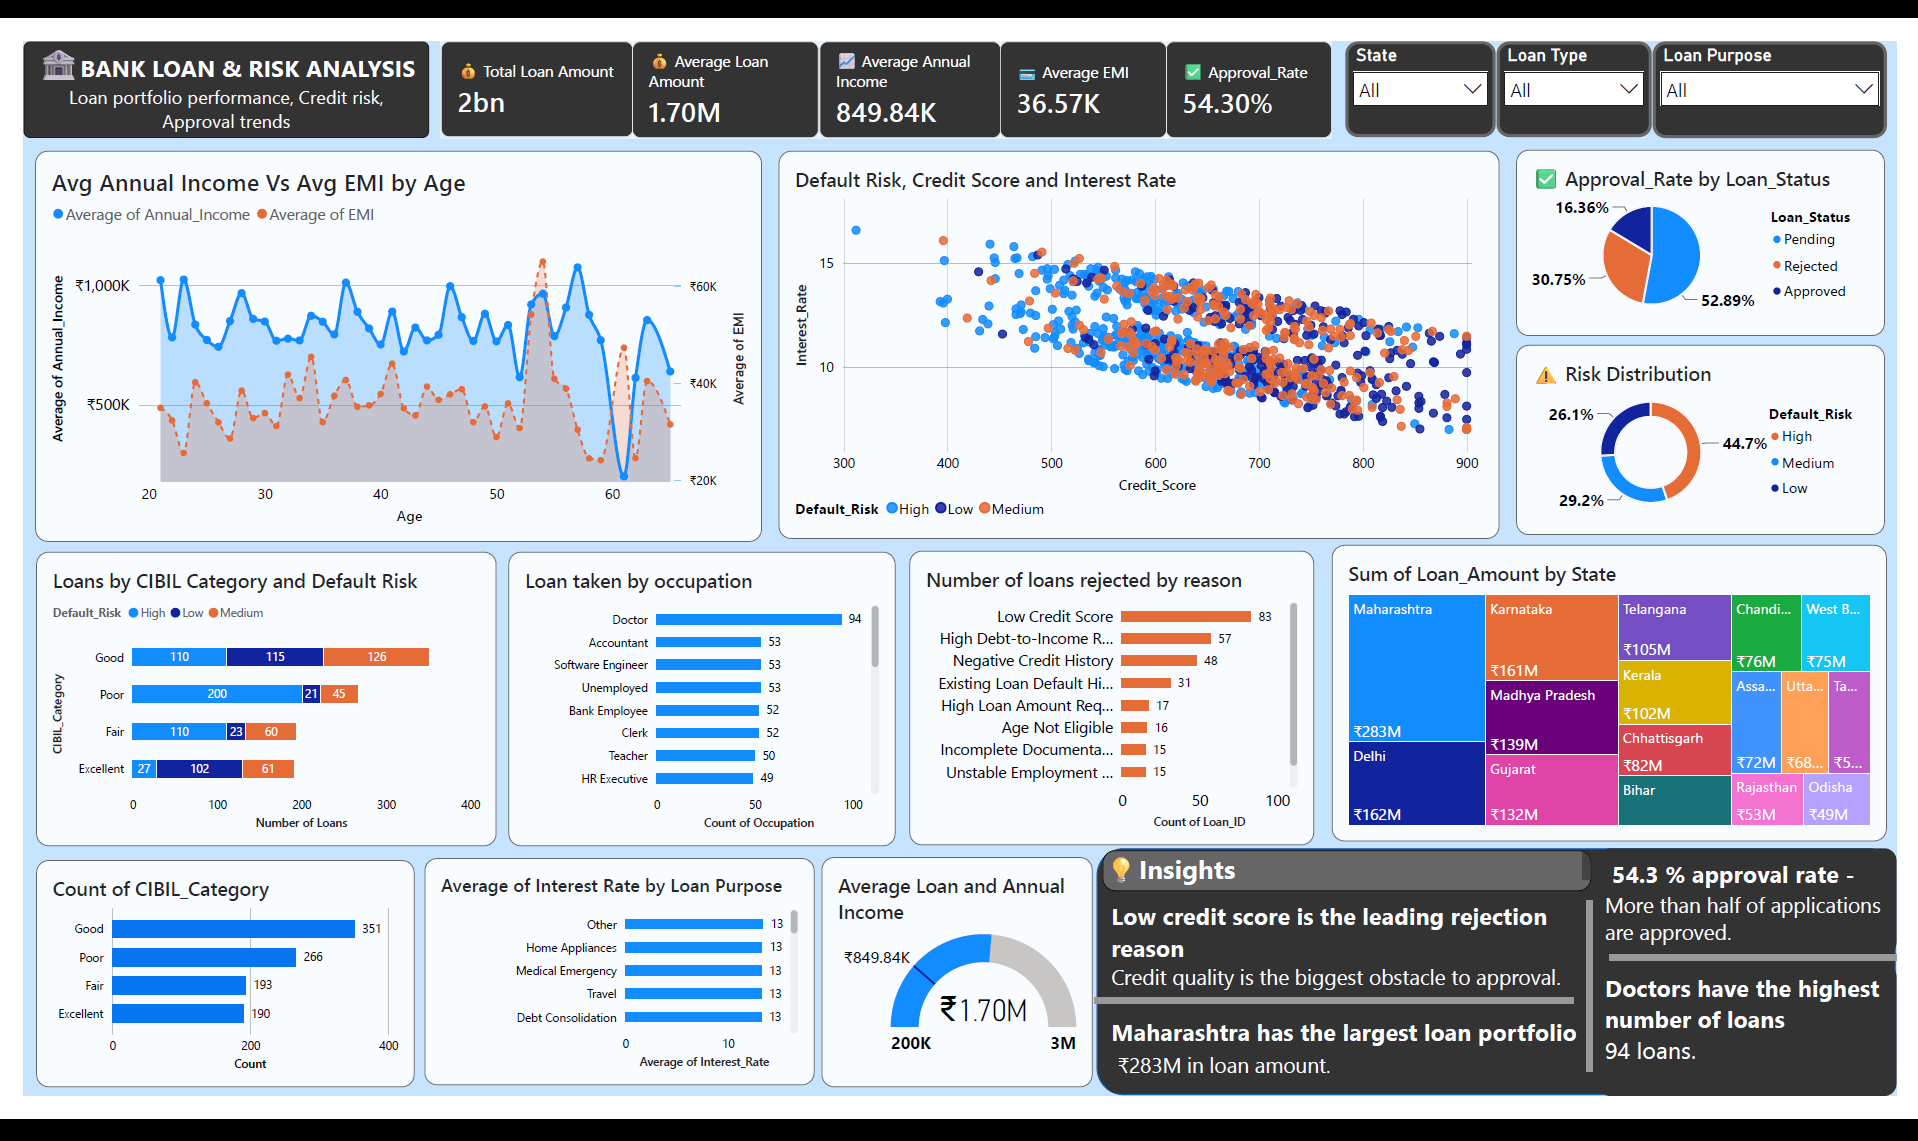

The dashboard page shown, as its layout file describes it:
{"tool":"powerbi","page":{"name":"Page 1","canvas":[1920,1080],"ordinal":0},"visuals":[{"type":"shape","box":[1099.8,827,819.5,253],"z":0},{"type":"treemap","fields":{"Group":["Bank_Loan_Dataset.State"],"Values":["Sum(Bank_Loan_Dataset.Loan_Amount)"]},"box":[1340.9,516,568.7,304.3],"z":1000},{"type":"barChart","title":"Average of Interest Rate by Loan Purpose","fields":{"Category":["Bank_Loan_Dataset.Loan_Purpose"],"Y":["Avg(Bank_Loan_Dataset.Interest_Rate)"]},"box":[411,837,400,233],"z":2000},{"type":"barChart","title":"Loan taken by occupation","fields":{"Category":["Bank_Loan_Dataset.Occupation"],"Y":["CountNonNull(Bank_Loan_Dataset.Occupation)"]},"box":[497.3,522.5,397,302.2],"z":3000},{"type":"gauge","title":"Average Loan and Annual Income","fields":{"MaxValue":["Bank_Loan_Dataset.Max_annual_income"],"MinValue":["Bank_Loan_Dataset.Min_annual_income"],"TargetValue":["Avg(Bank_Loan_Dataset.Annual_Income)"],"Y":["Avg(Bank_Loan_Dataset.Loan_Amount)"]},"box":[818,836,278.3,236],"z":4000},{"type":"barChart","title":"Number of loans rejected by reason","fields":{"Category":["Bank_Loan_Dataset.Rejection_Reason"],"Y":["CountNonNull(Bank_Loan_Dataset.Loan_ID)"]},"box":[908.5,521.9,415,302],"z":5000},{"type":"barChart","title":"Loans by CIBIL Category and Default Risk","fields":{"Category":["Bank_Loan_Dataset.CIBIL_Category"],"Series":["Bank_Loan_Dataset.Default_Risk"],"Y":["CountNonNull(Bank_Loan_Dataset.Loan_ID)"]},"box":[12.6,522.5,472,302.2],"z":6000},{"type":"slicer","fields":{"Values":["Bank_Loan_Dataset.State"]},"box":[1355,0,154,98],"z":7000},{"type":"slicer","fields":{"Values":["Bank_Loan_Dataset.Loan_Type"]},"box":[1509.6,0,159.7,97.7],"z":8000},{"type":"cardVisual","title":"Loan Approval Rate","fields":{"Data":["Bank_Loan_Dataset.Approval_Rate"]},"box":[1171.3,0,170.1,99.2],"z":9000},{"type":"scatterChart","title":"Default Risk, Credit Score and Interest Rate","fields":{"Series":["Bank_Loan_Dataset.Default_Risk"],"X":["Bank_Loan_Dataset.Credit_Score"],"Y":["Bank_Loan_Dataset.Interest_Rate"]},"box":[774,112.1,739,398.2],"z":10000},{"type":"textbox","box":[0,0,415.5,98.6],"z":11000},{"type":"cardVisual","title":"Loan Approval Rate","fields":{"Data":["Measures11.💰 Total Loan Amount"]},"box":[428.1,0,197.3,98.6],"z":12000},{"type":"cardVisual","title":"Loan Approval Rate","fields":{"Data":["Measures11.💰 Average Loan Amount"]},"box":[624.3,0,191.7,99.6],"z":13000},{"type":"cardVisual","fields":{"Data":["Measures11.💰 Average Annual Income"]},"box":[815.7,0,186.1,99.6],"z":14000},{"type":"cardVisual","fields":{"Data":["Measures11.💳 Average EMI"]},"box":[1001.2,0,171,99.6],"z":15000},{"type":"donutChart","title":"⚠️ Risk Distribution","fields":{"Category":["Bank_Loan_Dataset.Default_Risk"],"Y":["CountNonNull(Bank_Loan_Dataset.Loan_ID)"]},"box":[1529.8,310.6,377.7,195],"z":16000},{"type":"slicer","fields":{"Values":["Bank_Loan_Dataset.Loan_Purpose"]},"box":[1670,0,239.7,98.6],"z":17000},{"type":"lineChart","title":"Avg Annual Income Vs Avg EMI by Age","fields":{"Category":["Bank_Loan_Dataset.Age"],"Y":["Avg(Bank_Loan_Dataset.Annual_Income)"],"Y2":["Avg(Bank_Loan_Dataset.EMI)"]},"box":[11.6,112,745,401],"z":18000},{"type":"barChart","title":"Count of CIBIL_Category","fields":{"Category":["Bank_Loan_Dataset.CIBIL_Category"],"Y":["CountNonNull(Bank_Loan_Dataset.CIBIL_Category)"]},"box":[12.6,839.4,388.2,232.9],"z":19000},{"type":"pieChart","fields":{"Category":["Bank_Loan_Dataset.Loan_Status"],"Y":["Bank_Loan_Dataset.Approval_Rate"]},"box":[1529.8,111.2,377.7,191],"z":20000},{"type":"textbox","box":[1105.9,828.9,501.5,42],"z":21000},{"type":"textbox","box":[1613.7,826.8,306.4,109.1],"z":22000},{"type":"textbox","box":[1108,873,499.4,113.3],"z":23000},{"type":"textbox","box":[1613.7,946.4,306.4,134.3],"z":24000},{"type":"textbox","box":[1108,992,499.4,86],"z":25000},{"type":"shape","box":[1098,896.1,491,174.2],"z":25001},{"type":"shape","box":[1626.3,852,293.8,174.2],"z":25002},{"type":"shape","box":[1458,881.4,293.8,174.2],"z":25003}]}

Visuals, with their boxes in screenshot pixels (x1, y1, x2, y2):
shape: select_region(1088, 850, 1896, 1099)
treemap - Bank_Loan_Dataset.State x Sum(Bank_Loan_Dataset.Loan_Amount): select_region(1326, 543, 1886, 843)
"Average of Interest Rate by Loan Purpose" barChart: select_region(410, 860, 804, 1089)
"Loan taken by occupation" barChart: select_region(495, 550, 886, 847)
"Average Loan and Annual Income" gauge: select_region(811, 859, 1085, 1091)
"Number of loans rejected by reason" barChart: select_region(900, 549, 1309, 847)
"Loans by CIBIL Category and Default Risk" barChart: select_region(17, 550, 482, 847)
slicer - Bank_Loan_Dataset.State: select_region(1340, 35, 1492, 132)
slicer - Bank_Loan_Dataset.Loan_Type: select_region(1492, 35, 1650, 131)
"Loan Approval Rate" cardVisual: select_region(1159, 35, 1326, 133)
"Default Risk, Credit Score and Interest Rate" scatterChart: select_region(767, 145, 1496, 538)
textbox: select_region(5, 35, 414, 132)
"Loan Approval Rate" cardVisual: select_region(427, 35, 621, 132)
"Loan Approval Rate" cardVisual: select_region(620, 35, 809, 133)
cardVisual - Measures11.💰 Average Annual Income: select_region(809, 35, 992, 133)
cardVisual - Measures11.💳 Average EMI: select_region(991, 35, 1160, 133)
"⚠️ Risk Distribution" donutChart: select_region(1512, 341, 1884, 533)
slicer - Bank_Loan_Dataset.Loan_Purpose: select_region(1650, 35, 1886, 132)
"Avg Annual Income Vs Avg EMI by Age" lineChart: select_region(16, 145, 750, 540)
"Count of CIBIL_Category" barChart: select_region(17, 862, 400, 1091)
pieChart - Bank_Loan_Dataset.Loan_Status x Bank_Loan_Dataset.Approval_Rate: select_region(1512, 145, 1884, 333)
textbox: select_region(1094, 852, 1589, 893)
textbox: select_region(1595, 849, 1897, 957)
textbox: select_region(1097, 895, 1589, 1007)
textbox: select_region(1595, 967, 1897, 1100)
textbox: select_region(1097, 1012, 1589, 1097)
shape: select_region(1087, 918, 1570, 1089)
shape: select_region(1607, 874, 1897, 1046)
shape: select_region(1441, 903, 1731, 1075)
